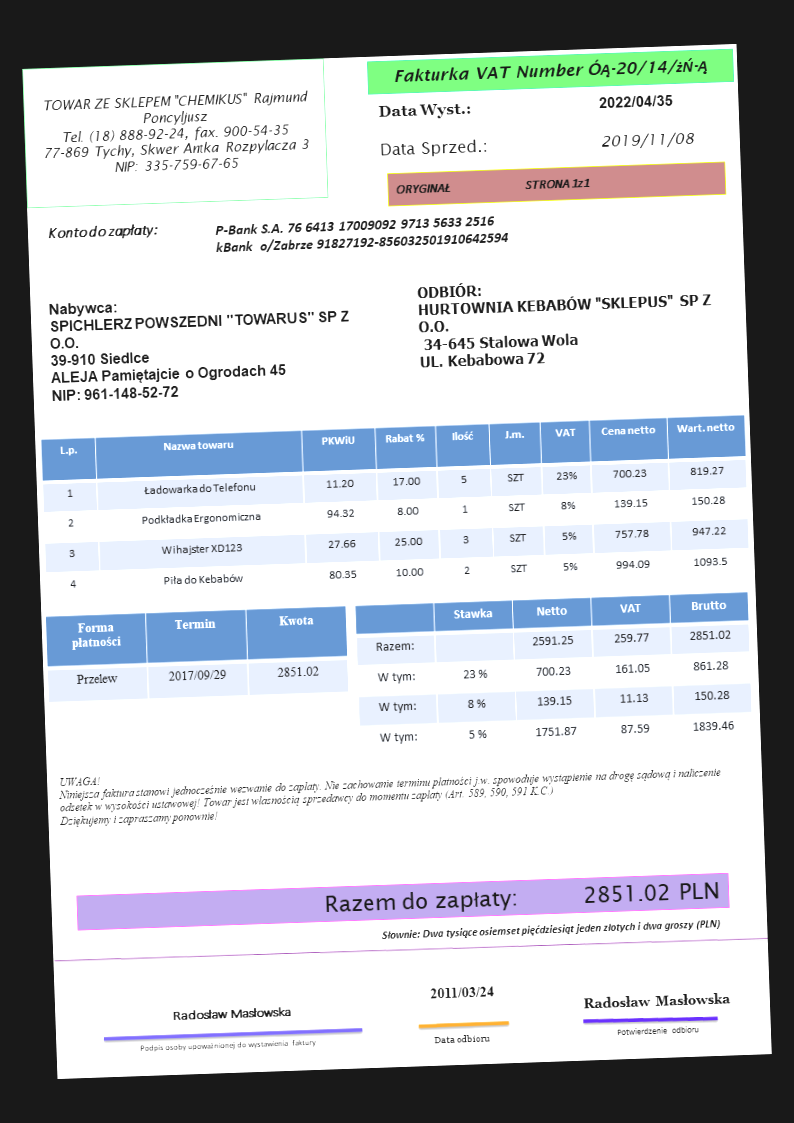Table: (39, 411, 751, 603), (352, 588, 754, 757), (45, 605, 348, 703)
TextBox: (58, 749, 727, 830), (45, 288, 356, 406), (412, 272, 718, 372), (37, 83, 315, 180), (322, 877, 722, 919), (210, 210, 514, 258), (389, 54, 712, 89), (378, 913, 724, 945), (391, 173, 595, 200), (137, 1033, 320, 1055), (580, 989, 731, 1014), (43, 217, 161, 245), (376, 135, 491, 162), (168, 1002, 295, 1023), (597, 127, 699, 152), (375, 98, 475, 123), (595, 89, 675, 112), (615, 1022, 703, 1040), (424, 982, 498, 1003), (431, 1030, 493, 1048)
